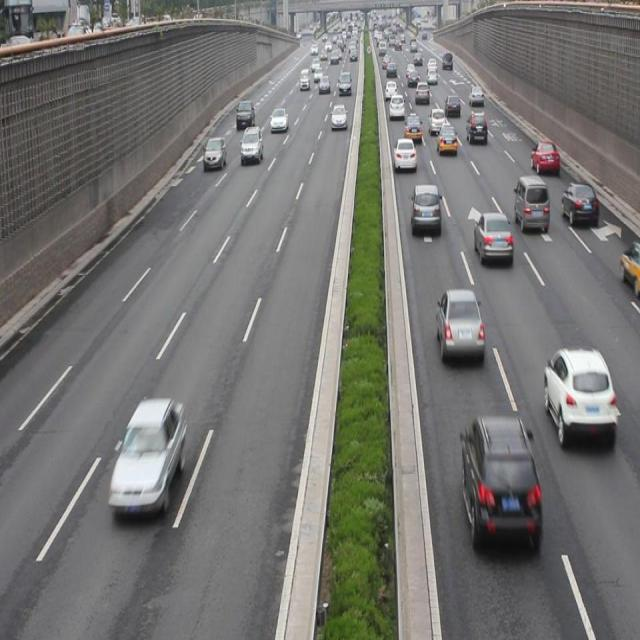car: (459, 413, 540, 548), (110, 396, 186, 515), (543, 345, 616, 449), (436, 287, 484, 365), (473, 210, 511, 266), (410, 181, 440, 236), (562, 182, 598, 226), (618, 239, 640, 292), (530, 139, 557, 174), (392, 134, 416, 172), (240, 124, 262, 164), (203, 135, 227, 170), (466, 109, 488, 145), (436, 121, 456, 153), (236, 99, 256, 130), (404, 112, 423, 144), (428, 107, 445, 134), (269, 107, 288, 131), (330, 104, 347, 128)
truck: (514, 174, 549, 231)
